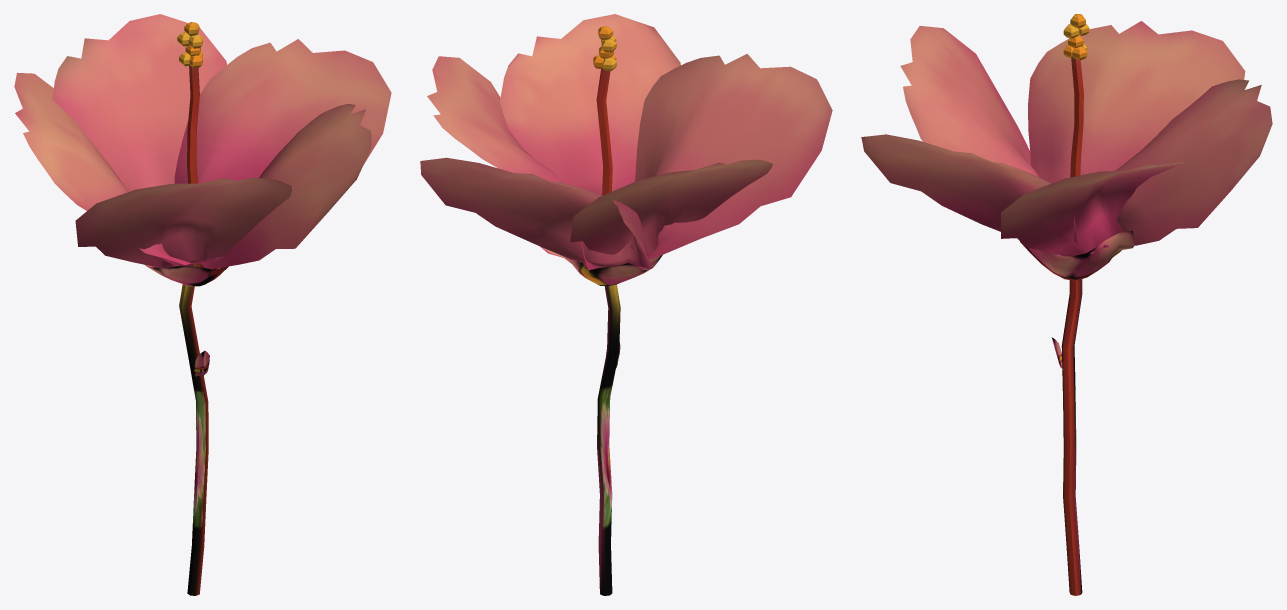
File: hibiscus.fbx
3 views of the same model, side by side, from view 1: azimuth 30°, elevation 25°; view 2: azimuth 150°, elevation 25°; view 3: azimuth 270°, elevation 25° (orthographic).
Parts seen in each view (by area): view 1: Hibiscus1pPlane1, Hibiscus1pPlane2, Hibiscus1pPlane4, Hibiscus1pPlane5, pPlane3Hibiscus1, Stem, Hibiscus1pCylinder1, BaseStem; view 2: Hibiscus1pPlane4, Hibiscus1pPlane5, Hibiscus1pPlane2, pPlane3Hibiscus1, Hibiscus1pPlane1, Stem, Hibiscus1pCylinder1, BaseStem; view 3: pPlane3Hibiscus1, Hibiscus1pPlane2, Hibiscus1pPlane4, Hibiscus1pPlane5, Hibiscus1pPlane1, Stem, BaseStem, Hibiscus1pCylinder1.
Boxes of the visible parts, <box> form: Hibiscus1pPlane1: <box>174,39,391,183</box>; Hibiscus1pPlane2: <box>52,14,226,191</box>; Hibiscus1pPlane4: <box>75,178,291,267</box>; Hibiscus1pPlane5: <box>203,104,371,269</box>; pPlane3Hibiscus1: <box>14,72,194,266</box>; Stem: <box>179,263,208,595</box>; Hibiscus1pCylinder1: <box>187,66,199,183</box>; BaseStem: <box>145,262,228,286</box>; Hibiscus1pPlane4: <box>635,54,832,259</box>; Hibiscus1pPlane5: <box>500,14,680,194</box>; Hibiscus1pPlane2: <box>420,157,651,268</box>; pPlane3Hibiscus1: <box>570,159,772,255</box>; Hibiscus1pPlane1: <box>427,56,596,270</box>; Stem: <box>597,284,620,595</box>; Hibiscus1pCylinder1: <box>596,69,612,195</box>; BaseStem: <box>539,246,662,285</box>; pPlane3Hibiscus1: <box>1028,21,1245,183</box>; Hibiscus1pPlane2: <box>1115,79,1272,245</box>; Hibiscus1pPlane4: <box>900,26,1039,177</box>; Hibiscus1pPlane5: <box>861,134,1077,244</box>; Hibiscus1pPlane1: <box>1001,161,1185,255</box>; Stem: <box>1061,279,1082,595</box>; BaseStem: <box>1020,230,1134,280</box>; Hibiscus1pCylinder1: <box>1070,58,1083,177</box>.
Bounding box in the file's own units: 44.63 × 71.24 × 45.9.
Materials: 1 (1 with a texture image).
